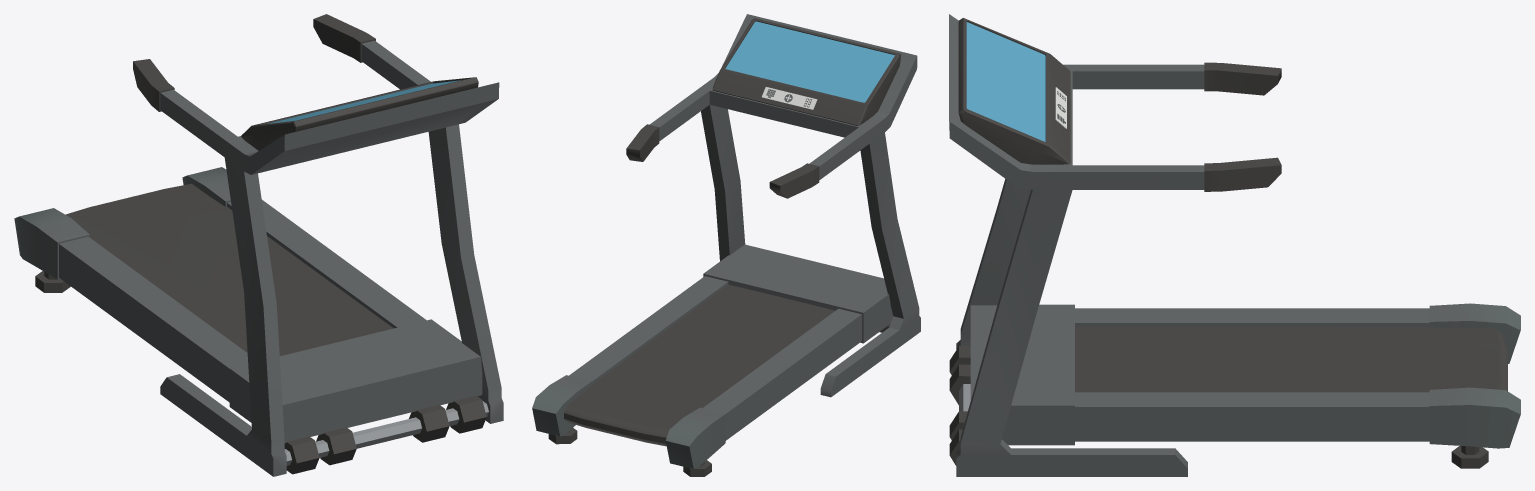
File: treadmill.glb
3 views of the same model, side by side, from view 1: azimuth 30°, elevation 25°; view 2: azimuth 150°, elevation 25°; view 3: azimuth 270°, elevation 25° (orthographic). The views are drawn at different scales.
Visible parts, largest first — view 1: GymEquipments_09_GymEquipments_SG_0; view 2: GymEquipments_09_GymEquipments_SG_0; view 3: GymEquipments_09_GymEquipments_SG_0.
Boxes of the visible parts, bbox=[...] form: GymEquipments_09_GymEquipments_SG_0: bbox=[14, 14, 503, 476]; GymEquipments_09_GymEquipments_SG_0: bbox=[532, 14, 920, 476]; GymEquipments_09_GymEquipments_SG_0: bbox=[949, 14, 1520, 476].
Bounding box in the file's own units: 0.4552 × 0.6623 × 0.9549.
Materials: 1 (1 with a texture image).
